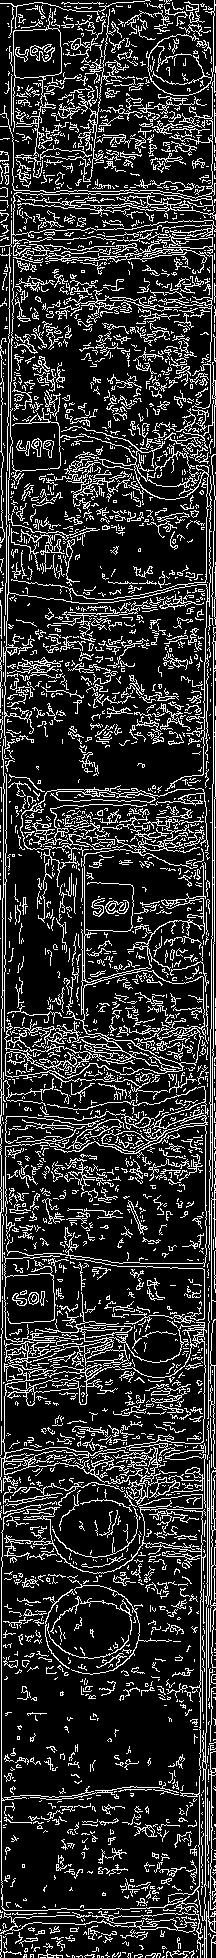hplug: (124, 428, 211, 504), (119, 1306, 195, 1382), (144, 26, 216, 100), (137, 917, 209, 990)
scal: (39, 1583, 154, 1680), (45, 1476, 147, 1578)
vplug: (21, 832, 97, 1046), (35, 2, 109, 182), (21, 1252, 97, 1412)
